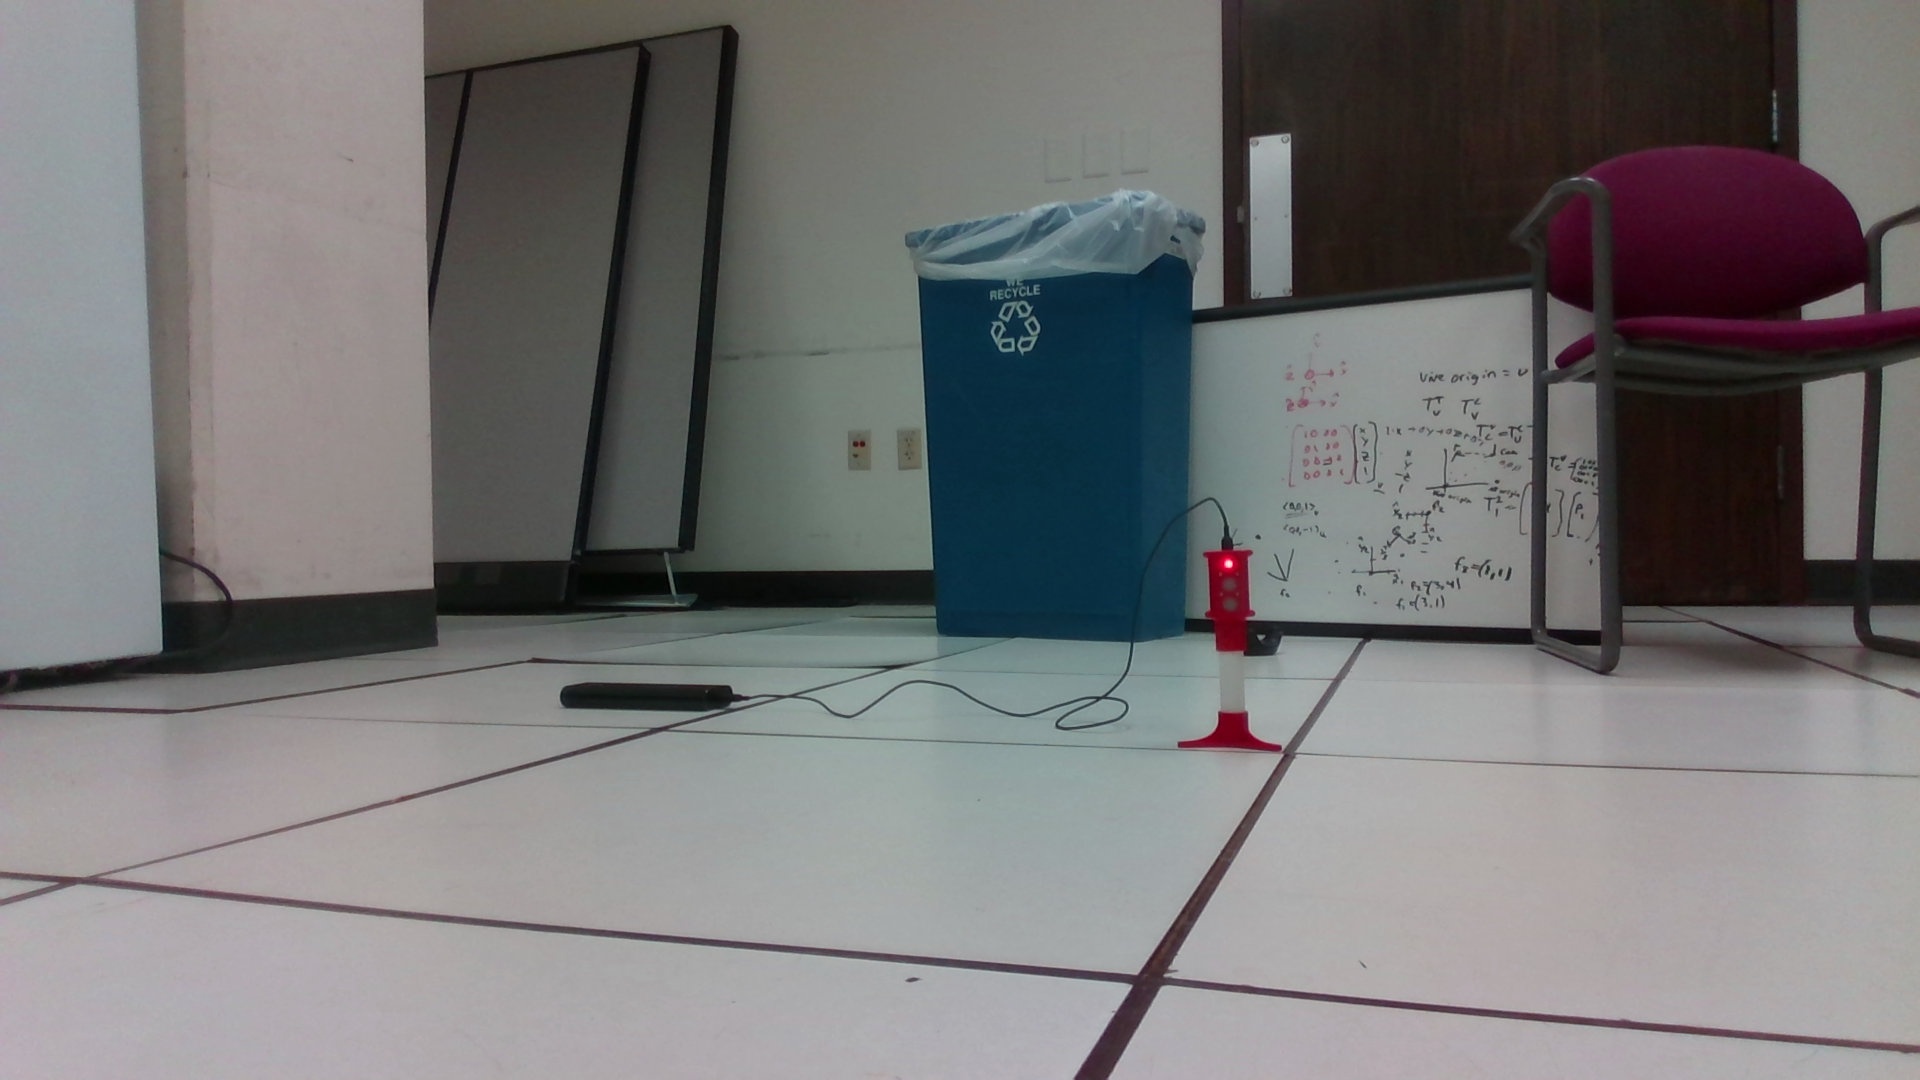stoplight: (1207, 549, 1257, 653)
